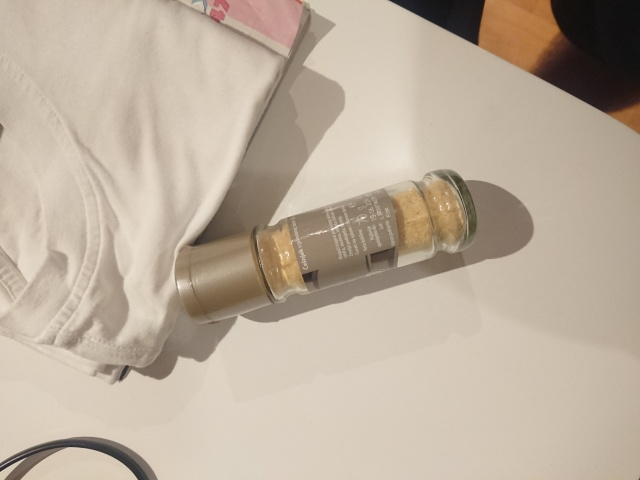Kotanyi Garlic Granules 70g: (170, 164, 479, 327)
